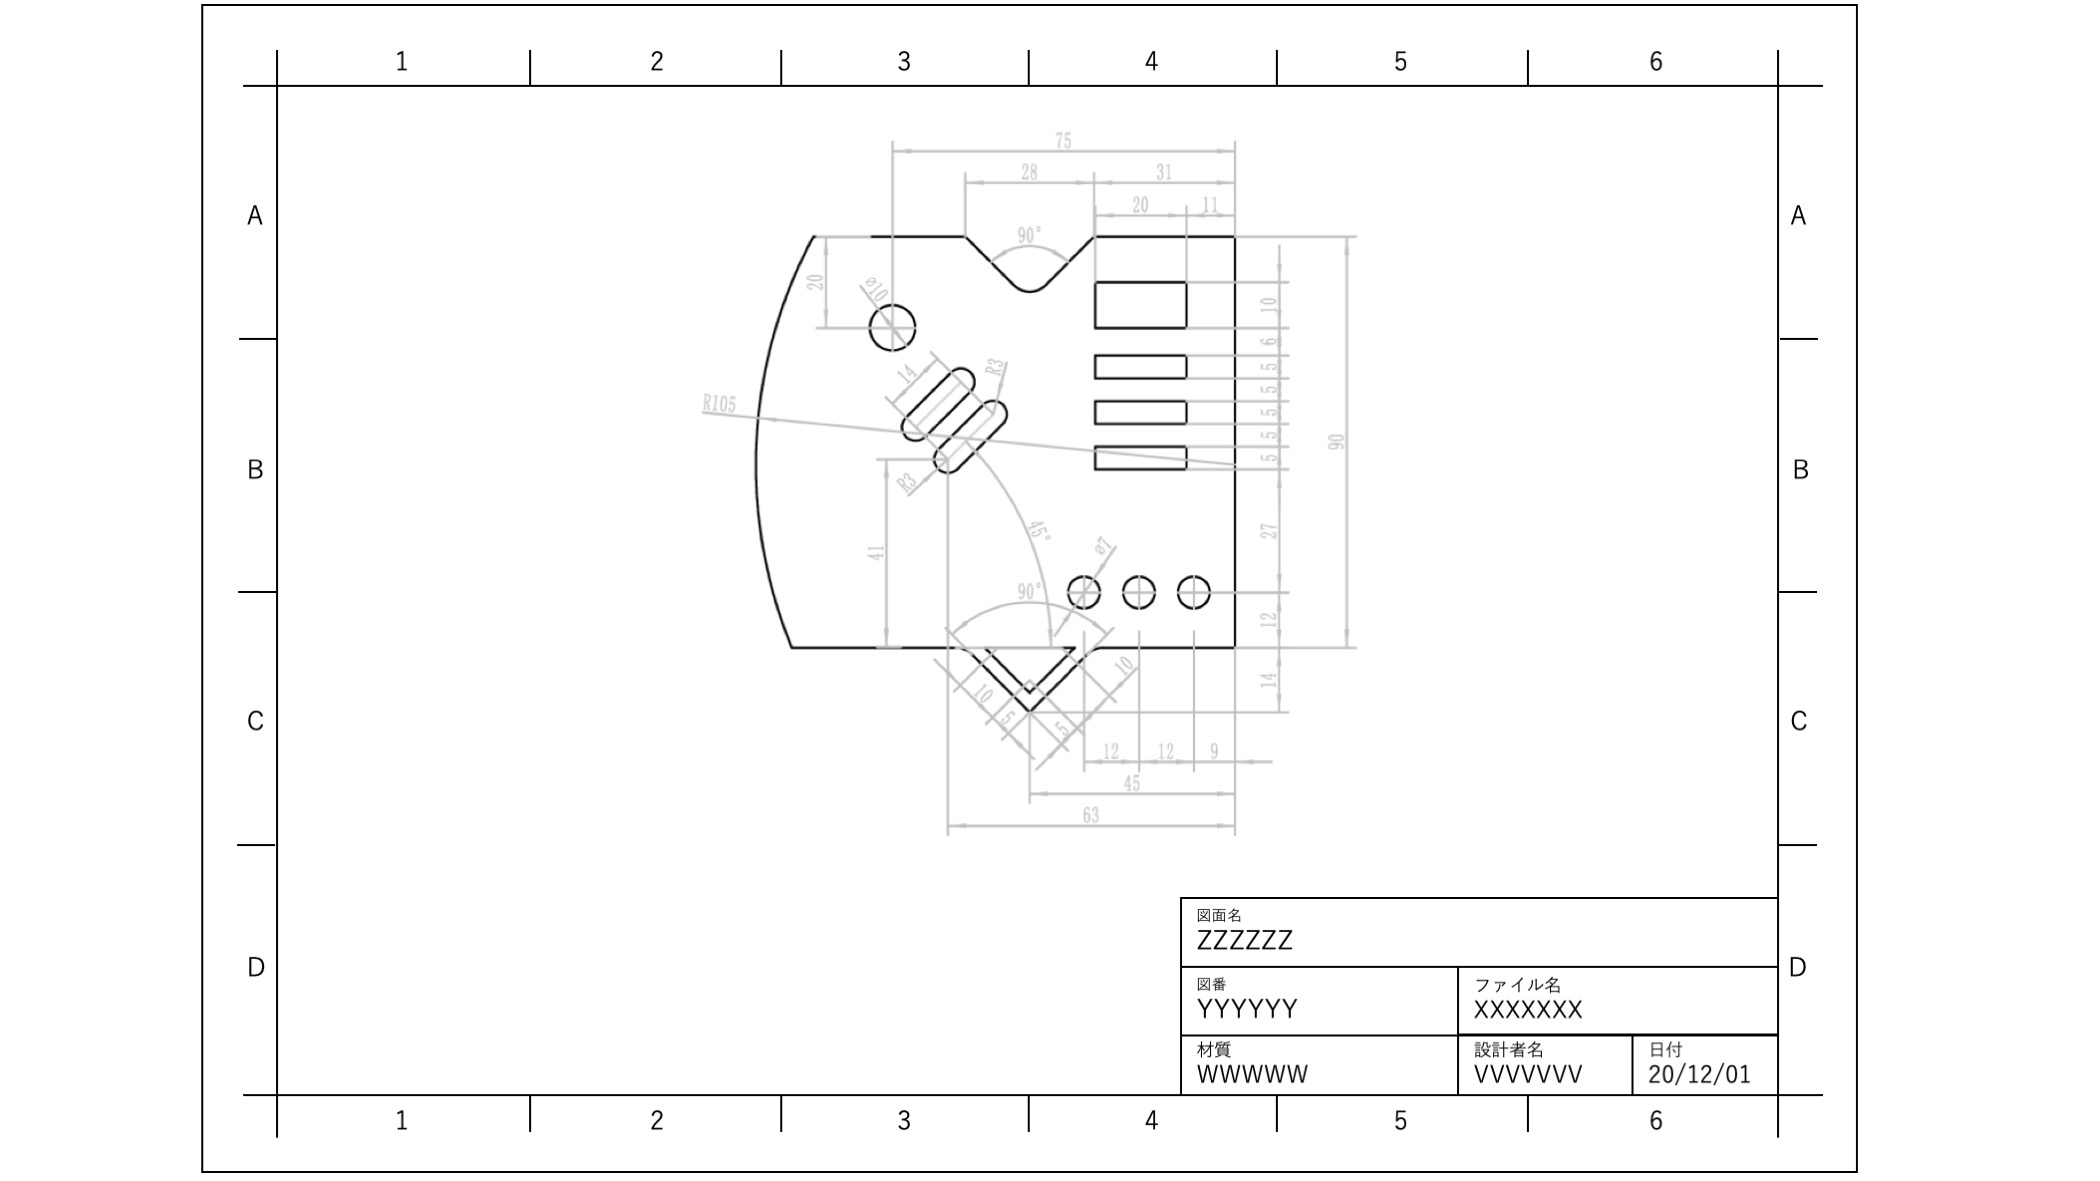circle: (868, 290, 923, 355), (1053, 565, 1111, 614), (1168, 558, 1213, 611), (1116, 562, 1155, 611)
rectangle: (1087, 273, 1197, 336), (1083, 343, 1203, 388), (1080, 438, 1204, 477), (1080, 394, 1201, 430)
round_rectangle: (894, 358, 985, 443), (933, 394, 1011, 482)
triangle: (979, 630, 1087, 694)
